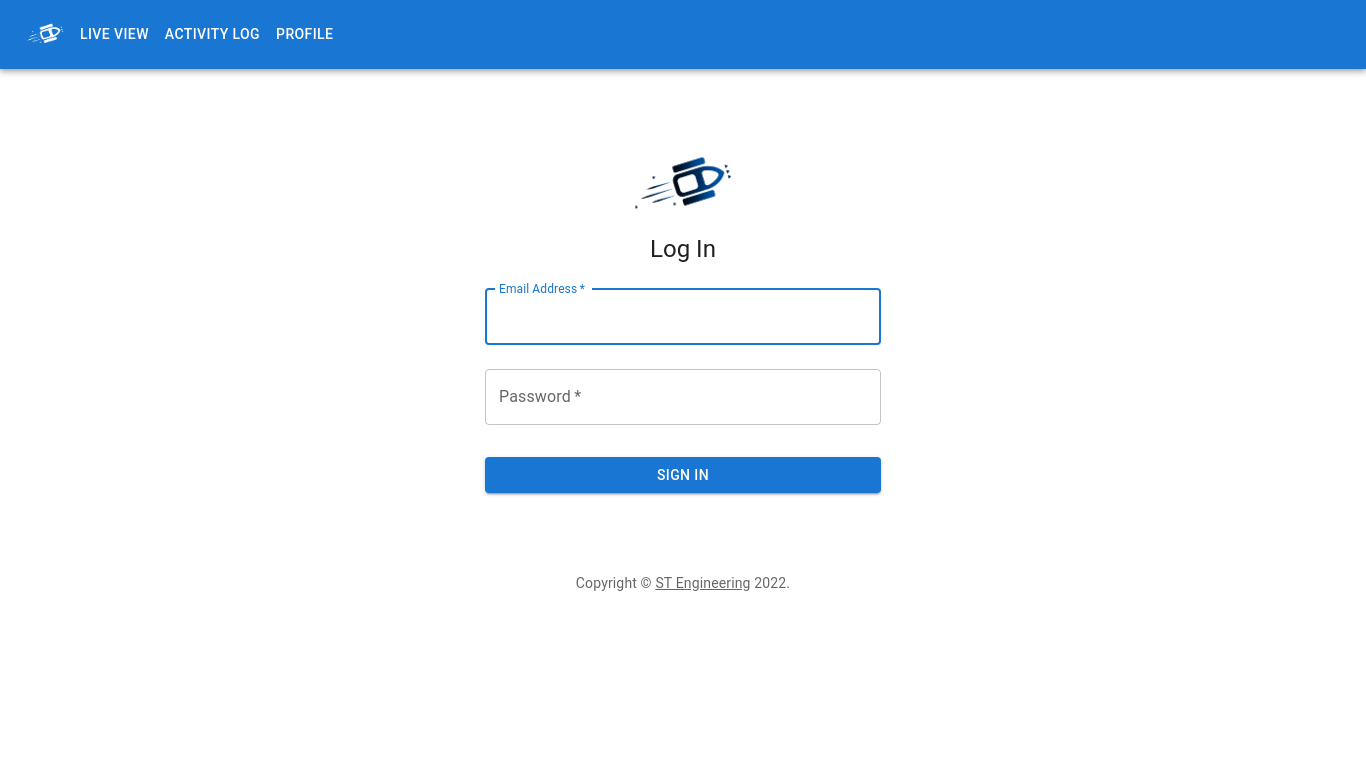
Test our basic auth functions › cannot login without username
Type "123123" into the element with test id "password-input".
click(683, 397); type("123123")  # box [485, 369, 881, 425]
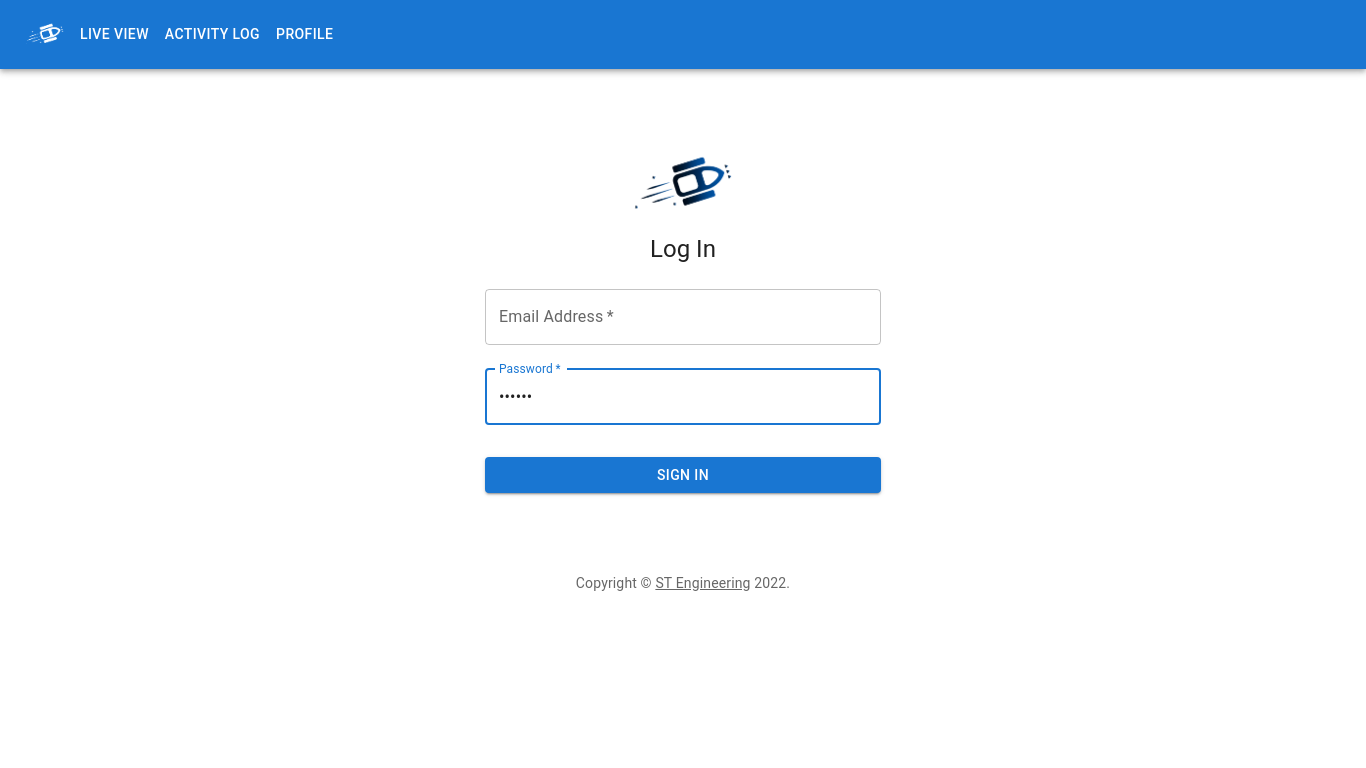
Click the button with test id "login-button".
click(683, 476)  # box [485, 457, 881, 494]
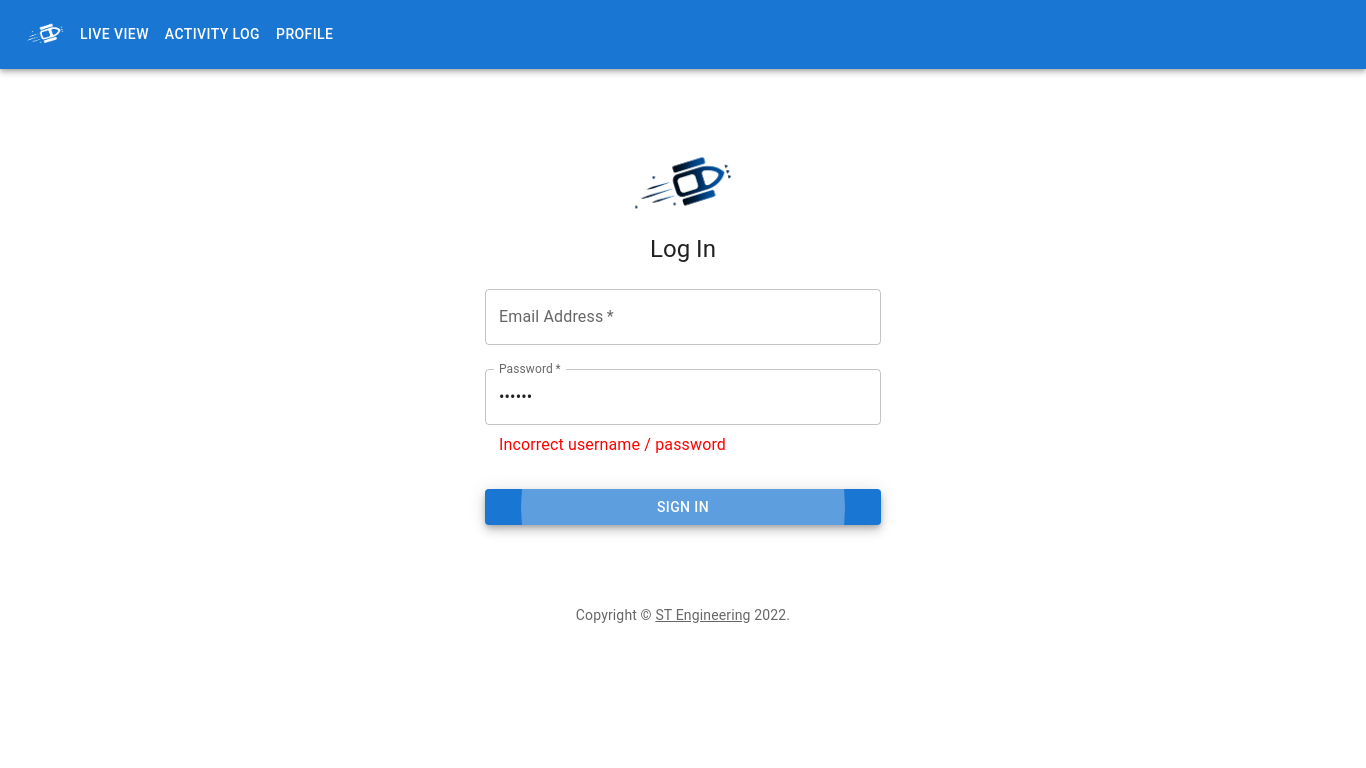
Now the text "Incorrect" is shown, box [499, 435, 726, 454]
